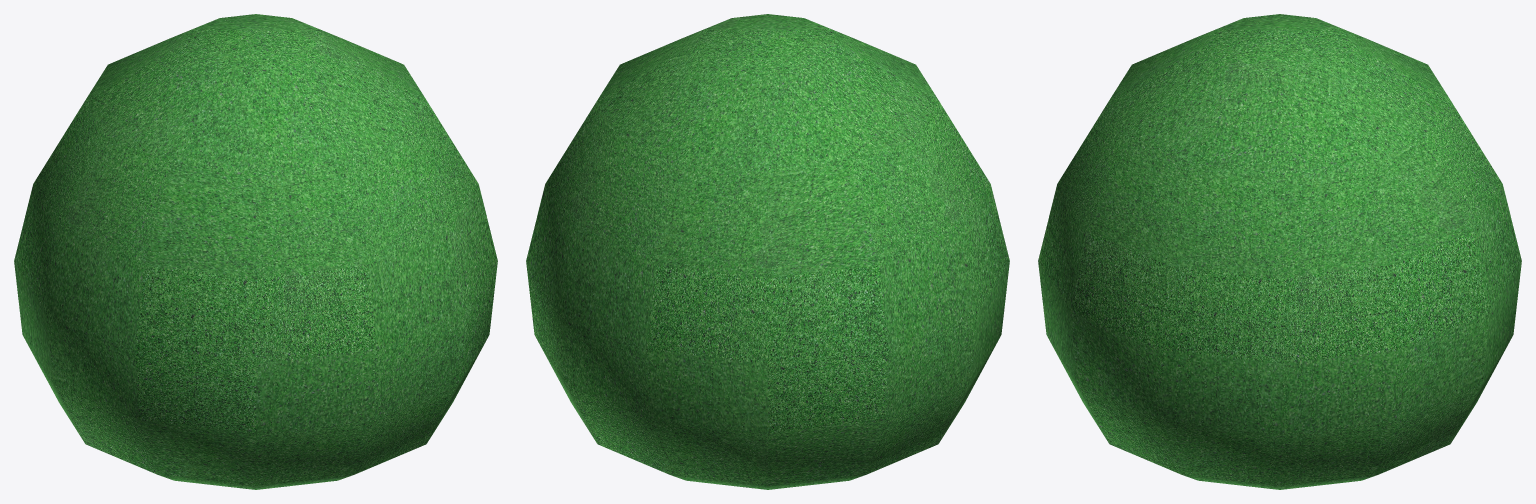
The model's file is Hedge Sphere.FBX.
3 views of the same model, side by side, from view 1: azimuth 30°, elevation 25°; view 2: azimuth 150°, elevation 25°; view 3: azimuth 270°, elevation 25° (orthographic).
Parts seen in each view (by area): view 1: Hedge Sphere; view 2: Hedge Sphere; view 3: Hedge Sphere.
Boxes of the visible parts, left/top/right/bottom form: Hedge Sphere: left=14, top=14, right=497, bottom=489; Hedge Sphere: left=526, top=14, right=1009, bottom=489; Hedge Sphere: left=1038, top=14, right=1521, bottom=489.
Bounding box in the file's own units: 18.39 × 16.62 × 18.39.
Materials: 1 (1 with a texture image).
